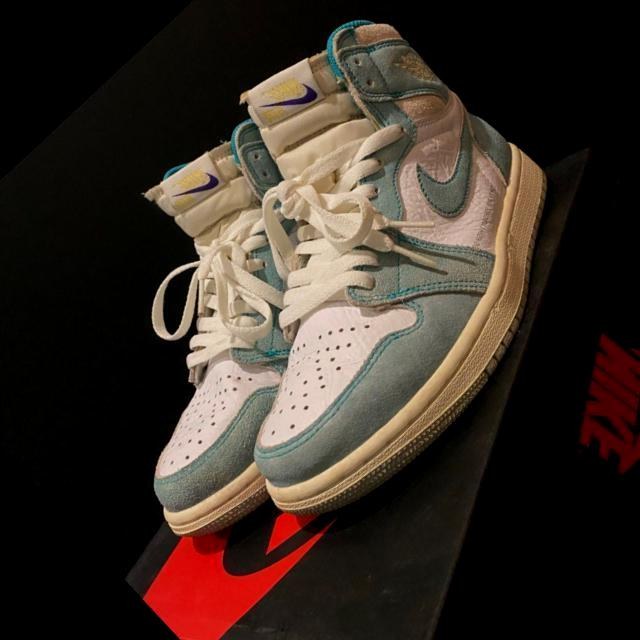nike_original_jordan: (56, 0, 631, 551), (0, 82, 463, 558)
